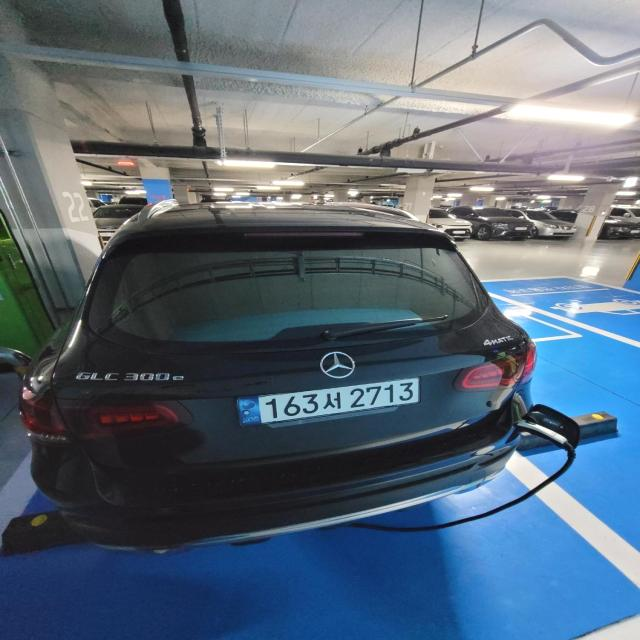car: (12, 197, 546, 556)
illegal_plate: (233, 379, 426, 427)
